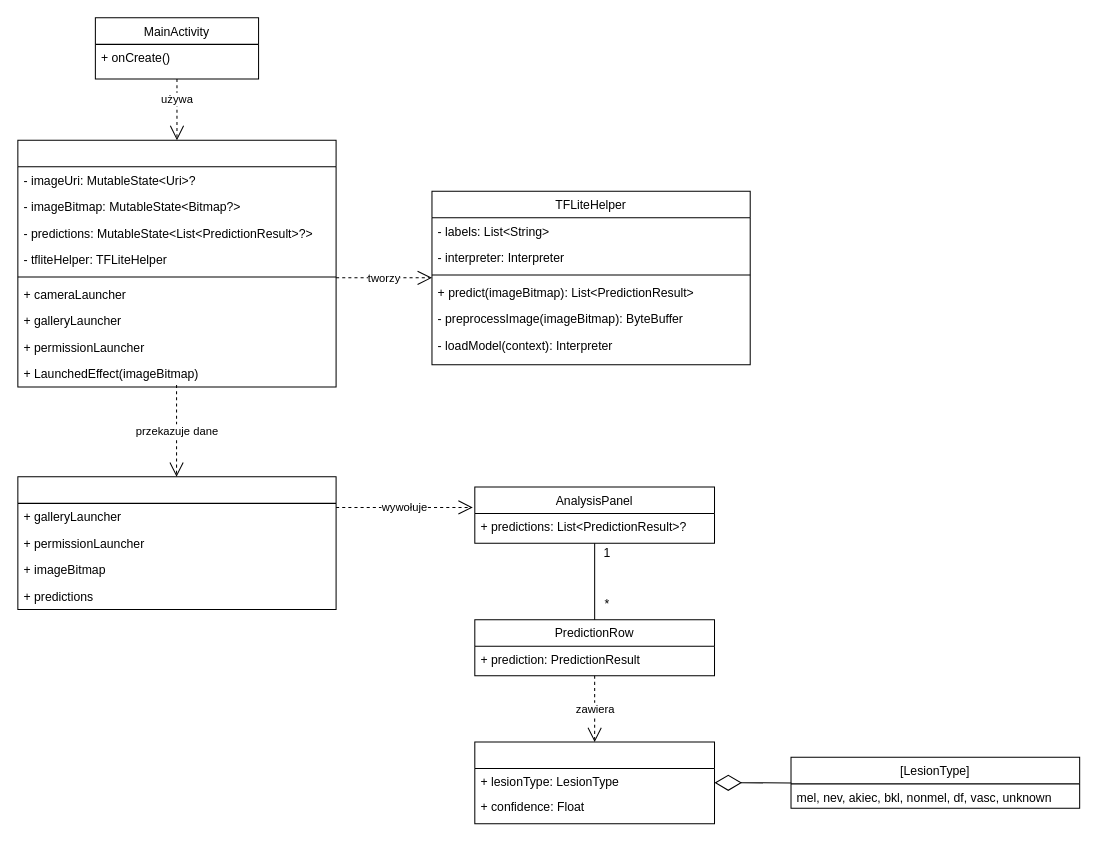
Image size: 1098x842. Some labels were removed from this diagram. Here are the shapes that lost their labels. From the top down, the box of each, then its label:
(17, 139, 336, 387): MainContent
(17, 476, 336, 609): ScreenLayout
(474, 741, 715, 824): PredictionResult
